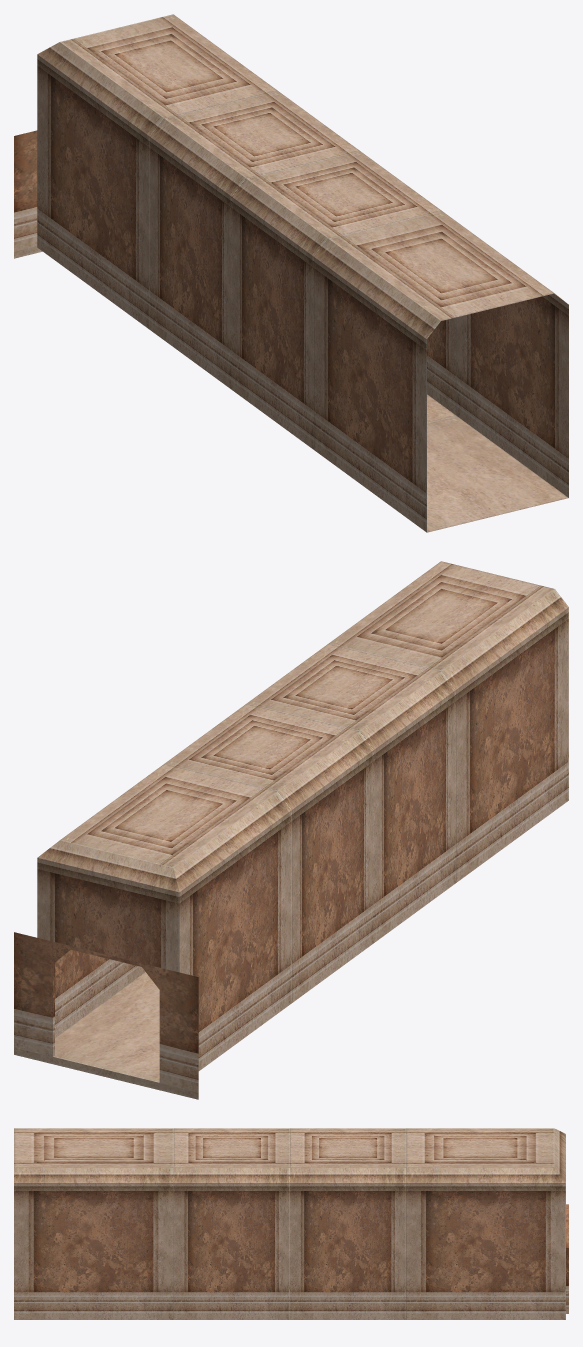
Rendered from thm_nboo_thed_emp_retreat_r9_hall4_mesh_r9_l1.fbx.
The picture shows the model from 3 angles, top to bottom: view 1: azimuth 30°, elevation 25°; view 2: azimuth 150°, elevation 25°; view 3: azimuth 270°, elevation 25°; orthographic projection. The views are drawn at different scales.
Parts seen in each view (by area): view 1: mesh_node; view 2: mesh_node; view 3: mesh_node.
Part boxes in pixels (x1=…): mesh_node: x1=14, y1=14, x2=568, y2=532; mesh_node: x1=14, y1=561, x2=568, y2=1099; mesh_node: x1=14, y1=1128, x2=568, y2=1319.
Size of the model in its own units: 5.2 by 5.8 by 19.1.
